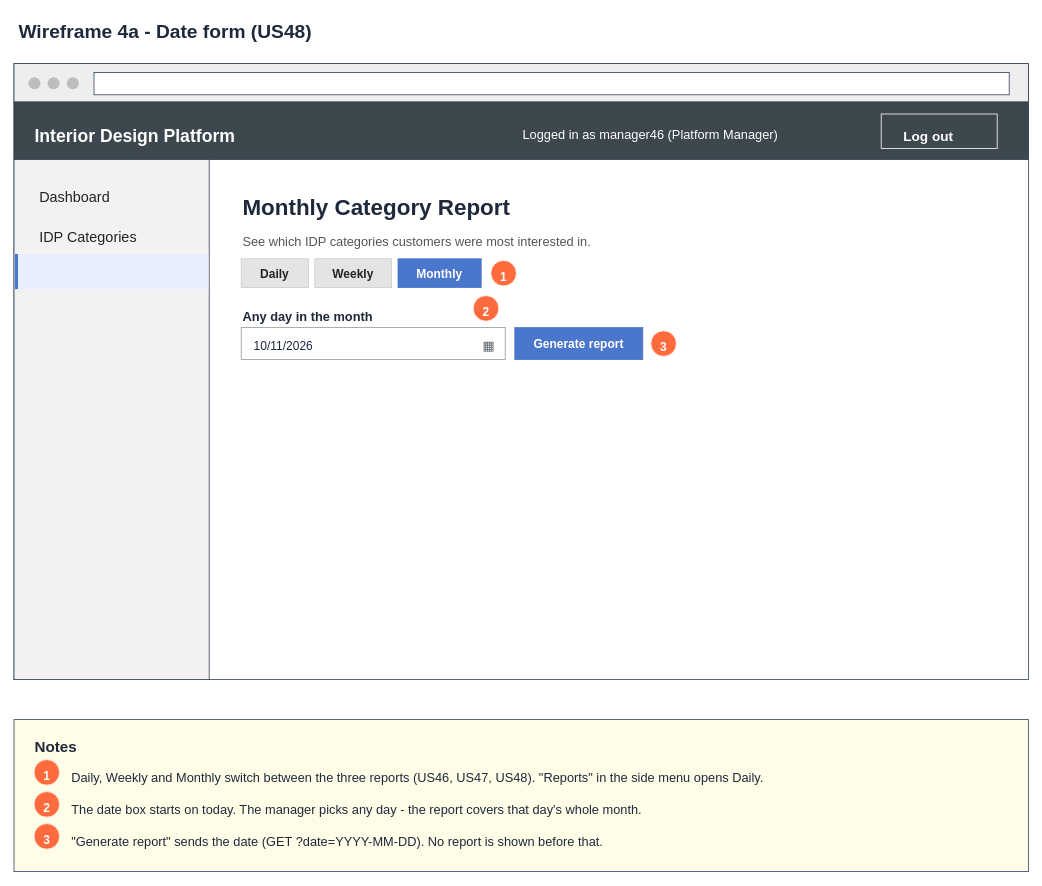
Image size: 1042x886. Some labels were removed from this diagram. Here are the shapes that lost their labels. From the top down, the centre of each, then its label:
the point at 551,83: localhost:5000/manager/reports/monthly
the point at 111,271: Reports
